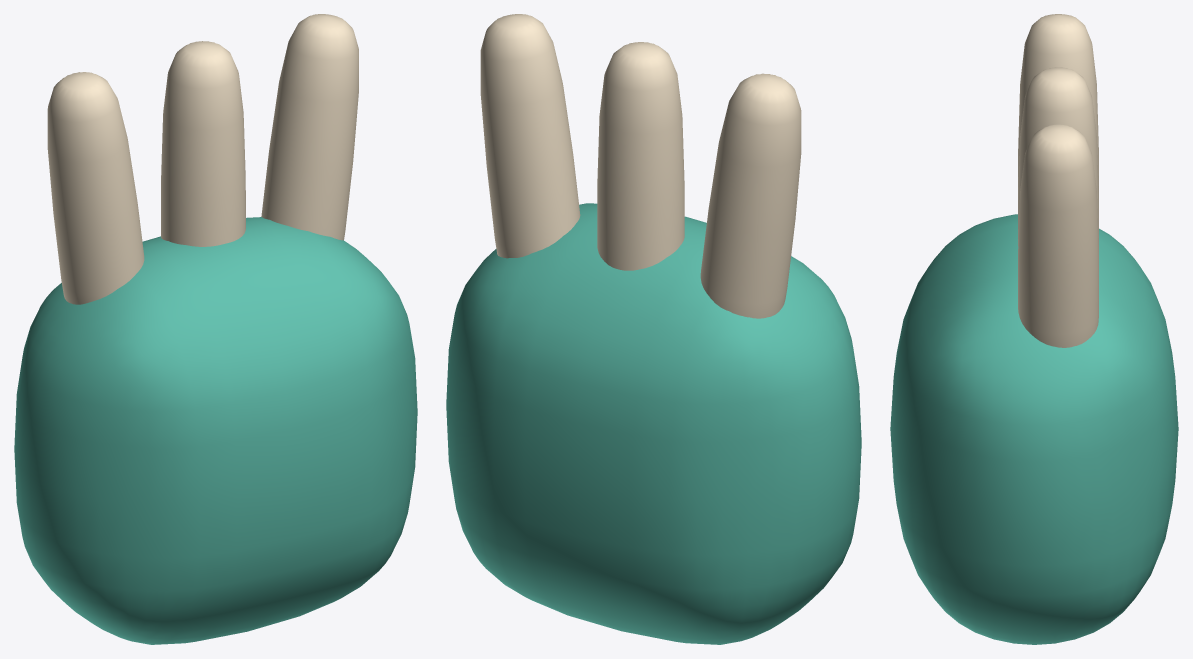
File: knives_a.glb
3 views of the same model, side by side, from view 1: azimuth 30°, elevation 25°; view 2: azimuth 150°, elevation 25°; view 3: azimuth 270°, elevation 25° (orthographic). The views are drawn at different scales.
Visible parts, largest first — view 1: body; view 2: body; view 3: body.
Part boxes in pixels (bbox=[...]): body: bbox=[14, 14, 417, 644]; body: bbox=[446, 14, 861, 644]; body: bbox=[890, 14, 1178, 644].
Bounding box in the file's own units: 0.17 × 0.2494 × 0.12.
